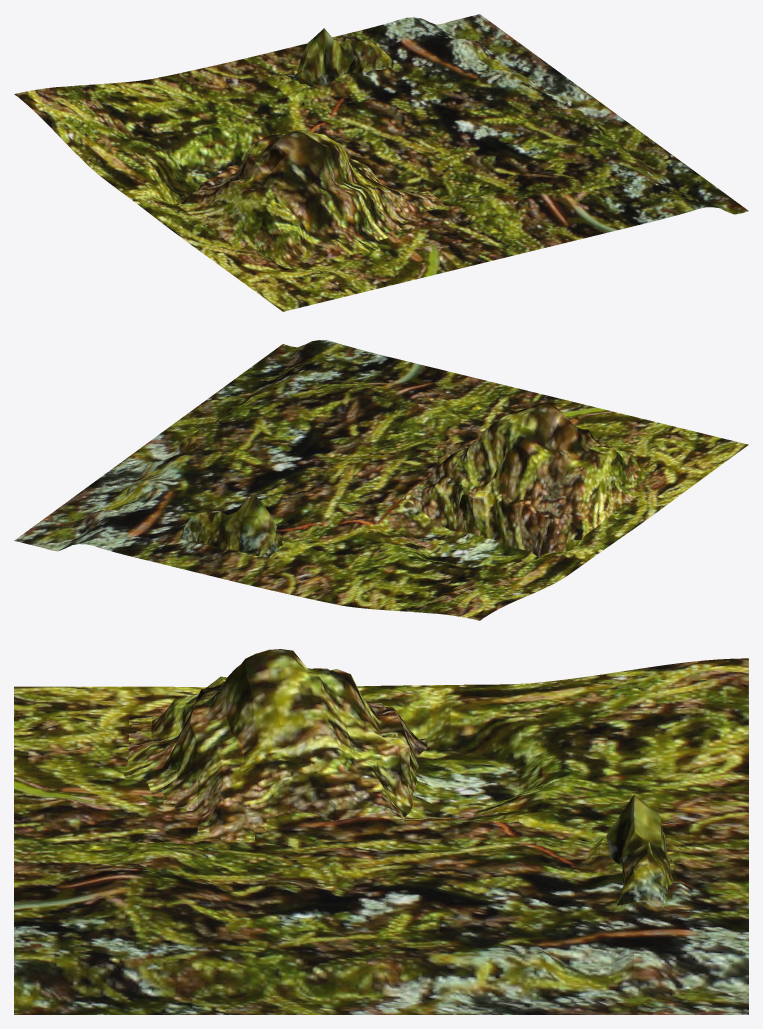
The model's file is ASR_0614.fbx.
3 renders of one model, top to bottom at view 1: azimuth 30°, elevation 25°; view 2: azimuth 150°, elevation 25°; view 3: azimuth 270°, elevation 25°, orthographic. The views are drawn at different scales.
Visible parts, largest first — view 1: Stage_Walkable, Unwalkable; view 2: Stage_Walkable, Unwalkable; view 3: Stage_Walkable, Unwalkable.
Boxes of the visible parts, x1,y1,x2,y2 form: Stage_Walkable: (26,20,715,306); Unwalkable: (14,14,748,311); Stage_Walkable: (77,343,736,615); Unwalkable: (14,340,748,620); Stage_Walkable: (25,649,737,983); Unwalkable: (14,651,748,1014).
Size of the model in its own units: 200 by 40.52 by 200.
Materials: 1 (1 with a texture image).
